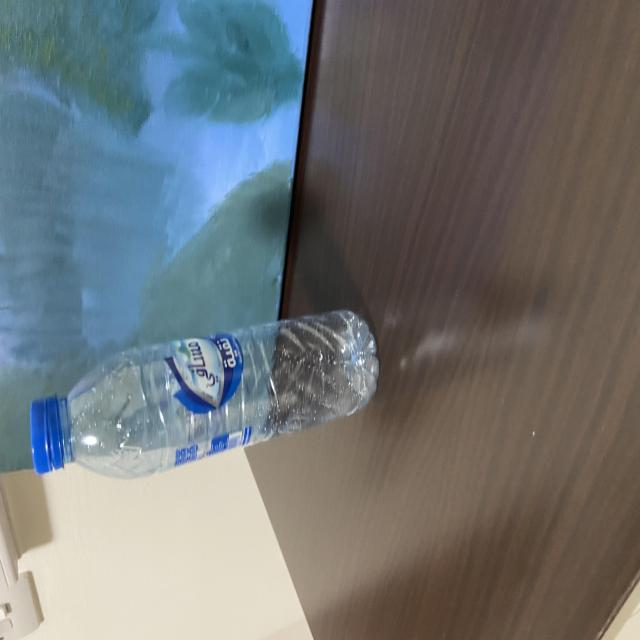plastic: (27, 311, 379, 475)
